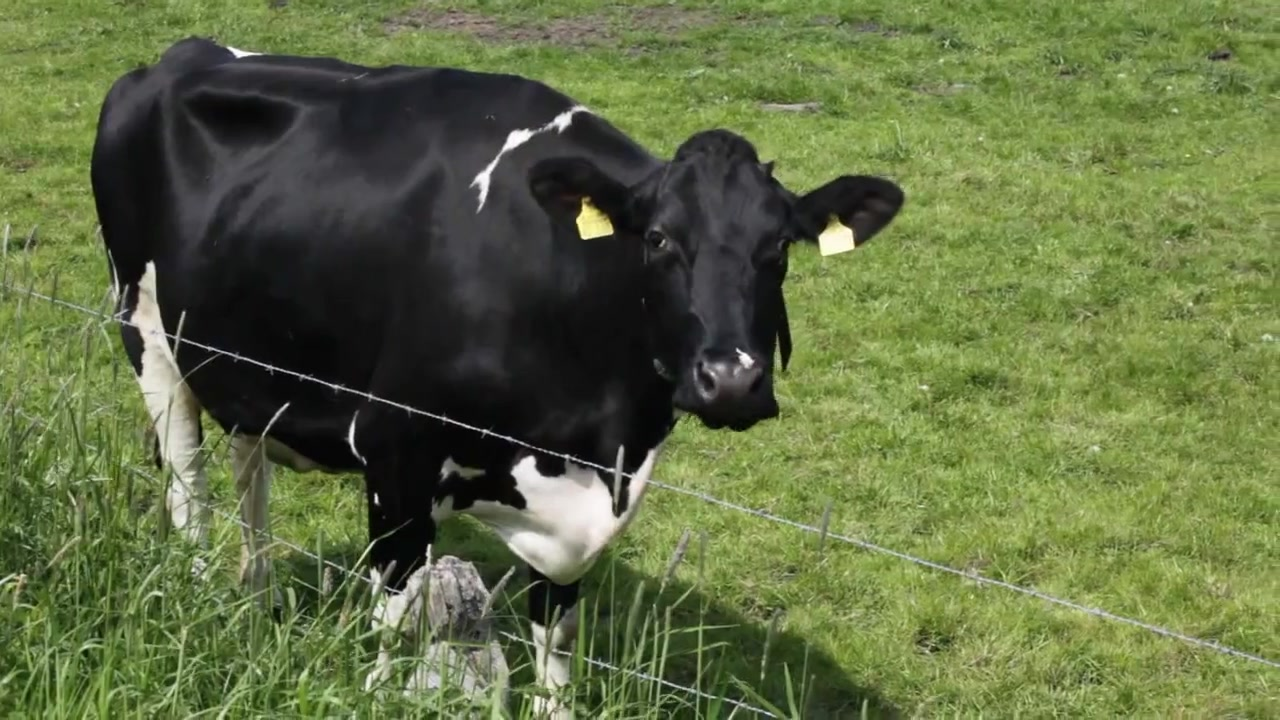cow: (85, 37, 912, 710)
